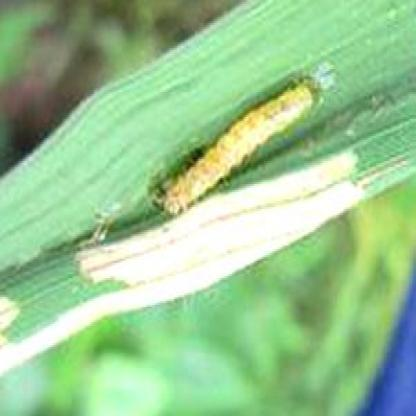leaf-folder: (155, 74, 316, 207)
